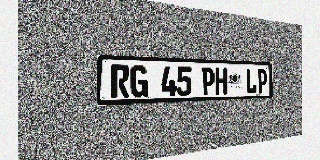4: (161, 66, 176, 96)
5: (177, 66, 191, 96)
G: (130, 65, 148, 97)
H: (215, 67, 227, 95)
L: (246, 68, 257, 94)
P: (201, 67, 215, 95), (257, 69, 267, 93)
R: (111, 64, 130, 98)
